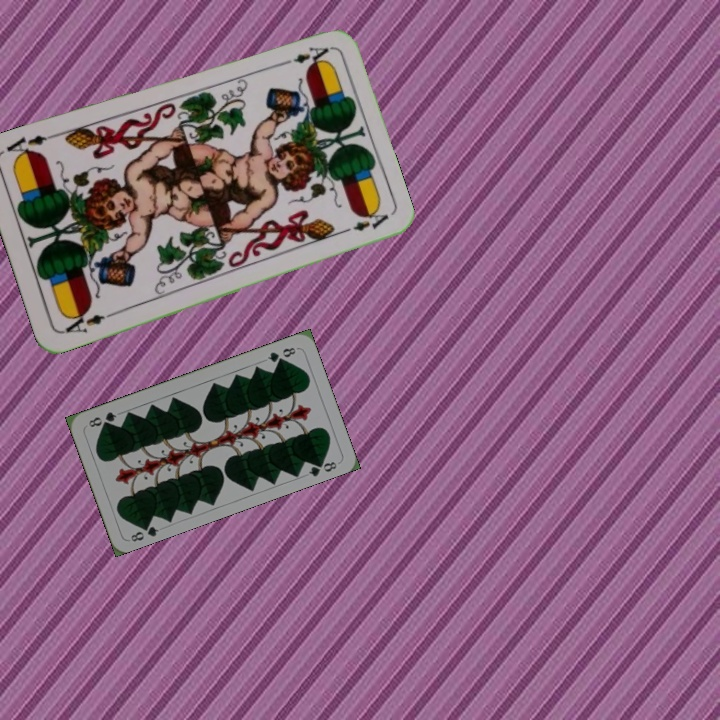EA: (59, 307, 116, 336), (275, 42, 331, 69)
G8: (127, 519, 161, 545), (263, 343, 299, 365)
